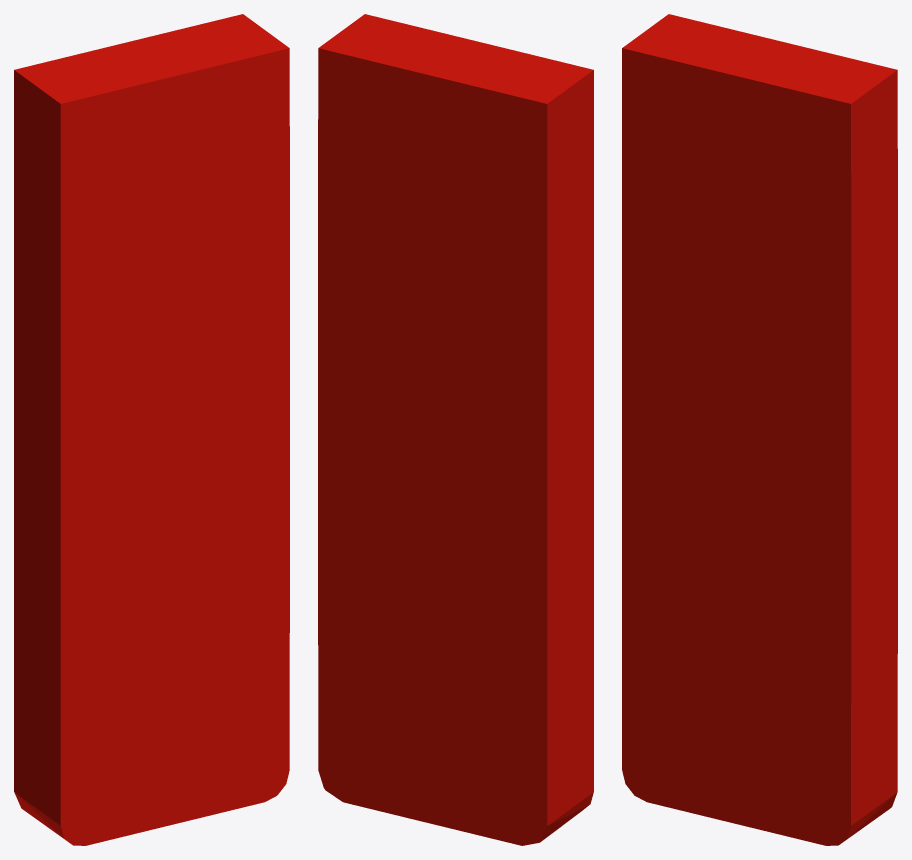
File: simple_example_hole_part_87.obj
3 views of the same model, side by side, from view 1: azimuth 30°, elevation 25°; view 2: azimuth 150°, elevation 25°; view 3: azimuth 330°, elevation 25° (orthographic).
Bounding box in the file's own units: 1.85 × 5.78 × 0.653.
